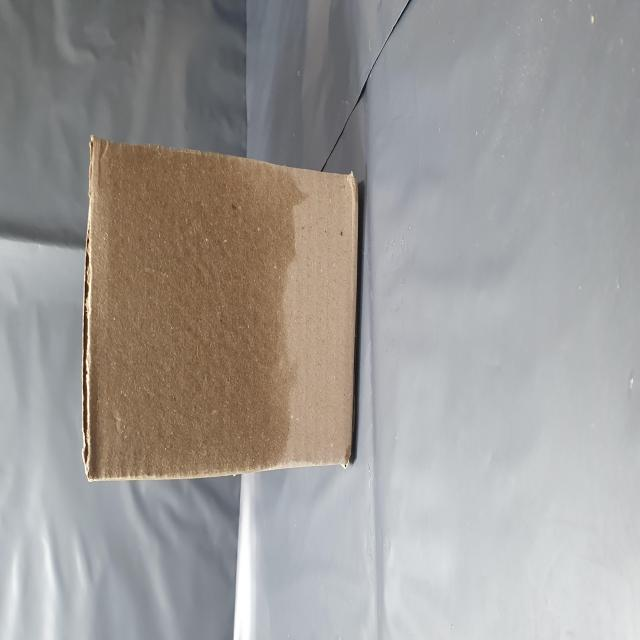wet: (89, 146, 277, 640)
